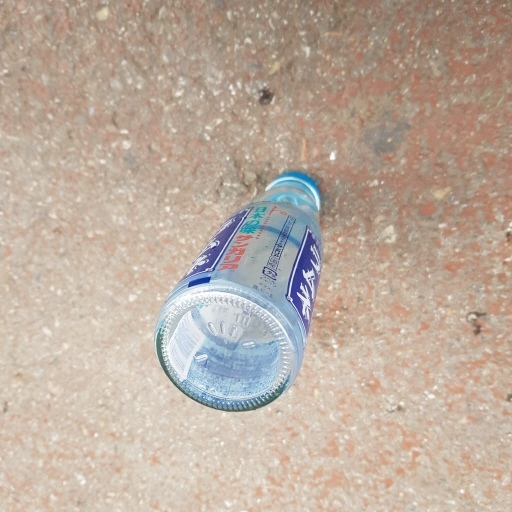Glass_4: (150, 168, 330, 418)
